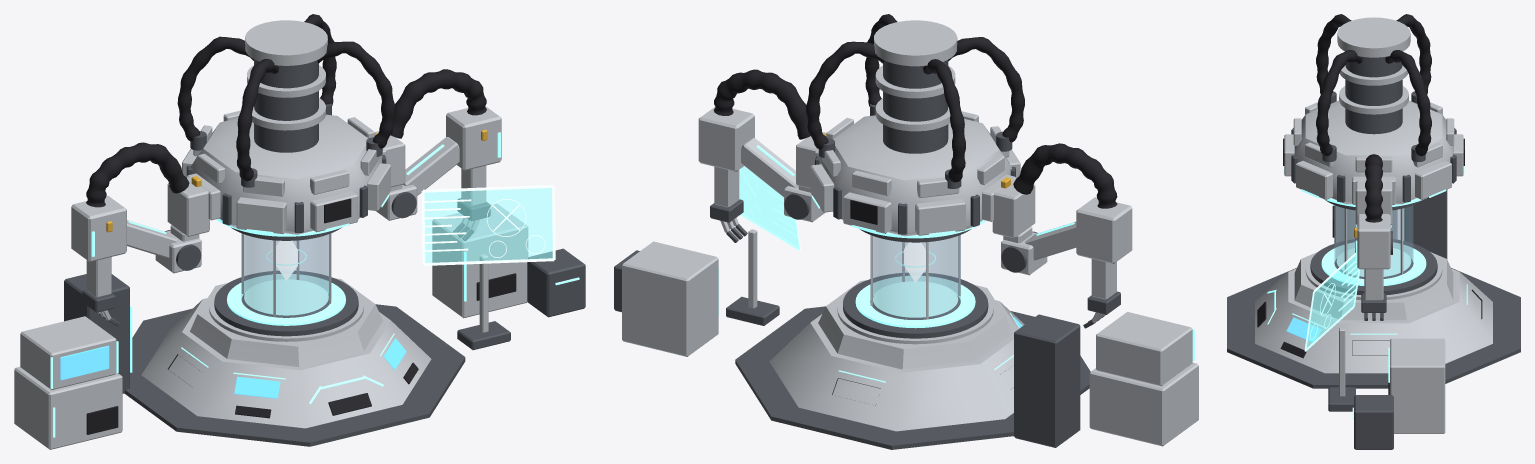
File: Synthesis Machine.glb
3 views of the same model, side by side, from view 1: azimuth 30°, elevation 25°; view 2: azimuth 150°, elevation 25°; view 3: azimuth 270°, elevation 25° (orthographic). The views are drawn at different scales.
Parts seen in each view (by area): view 1: Synth_PedestalLower, Synth_BasePlate, Synth_HeadBody, Synth_Holo_Plate, Synth_Cab_R1, Synth_GlassTube, Synth_Cab_L1, Synth_PedestalUpper, Synth_Cab_L2, Synth_Column, Synth_Cab_R2, Synth_ColumnCap (+35 smaller); view 2: Synth_PedestalLower, Synth_Cab_R1, Synth_HeadBody, Synth_BasePlate, Synth_Cab_L3_Tall, Synth_Cab_L1, Synth_GlassTube, Synth_Cab_L2, Synth_PedestalUpper, Synth_Column, Synth_ColumnCap, Synth_RingPlatform (+29 smaller); view 3: Synth_PedestalLower, Synth_BasePlate, Synth_HeadBody, Synth_Cab_R1, Synth_PedestalUpper, Synth_Column, Synth_GlassTube, Synth_Holo_Plate, Synth_ColumnCap, Synth_Cab_L3_Tall, Synth_Cab_R2, Synth_RingPlatform (+26 smaller).
Part boxes in pixels (x1,y1,x2,y2): Synth_PedestalLower: (141, 298, 431, 428); Synth_BasePlate: (124, 304, 465, 446); Synth_HeadBody: (190, 114, 382, 234); Synth_Holo_Plate: (424, 188, 552, 262); Synth_Cab_R1: (432, 203, 528, 318); Synth_GlassTube: (241, 234, 328, 317); Synth_Cab_L1: (14, 366, 122, 449); Synth_PedestalUpper: (190, 278, 382, 366); Synth_Cab_L2: (20, 316, 116, 389); Synth_Column: (254, 59, 318, 152); Synth_Cab_R2: (527, 248, 585, 317); Synth_ColumnCap: (245, 20, 327, 65); Synth_PedestalLower: (769, 300, 1024, 431); Synth_Cab_R1: (622, 241, 718, 356); Synth_HeadBody: (819, 115, 1012, 236); Synth_BasePlate: (735, 306, 1090, 449); Synth_Cab_L3_Tall: (1014, 314, 1080, 447); Synth_Cab_L1: (1089, 362, 1198, 446); Synth_GlassTube: (872, 235, 960, 319); Synth_Cab_L2: (1096, 312, 1192, 385); Synth_PedestalUpper: (818, 280, 1012, 369); Synth_Column: (883, 60, 948, 153); Synth_ColumnCap: (874, 20, 957, 66); Synth_RingPlatform: (843, 272, 988, 338); Synth_PedestalLower: (1255, 268, 1492, 373); Synth_BasePlate: (1227, 268, 1520, 388); Synth_HeadBody: (1294, 100, 1453, 204); Synth_Cab_R1: (1390, 338, 1445, 433); Synth_PedestalUpper: (1294, 252, 1453, 320); Synth_Column: (1345, 57, 1402, 134); Synth_GlassTube: (1334, 205, 1413, 278); Synth_Holo_Plate: (1306, 255, 1359, 350); Synth_ColumnCap: (1337, 17, 1410, 57); Synth_Cab_L3_Tall: (1404, 189, 1447, 258); Synth_Cab_R2: (1354, 395, 1393, 449); Synth_RingPlatform: (1310, 239, 1437, 294).
Bounding box in the file's own units: 7.02 × 4.08 × 3.7.
